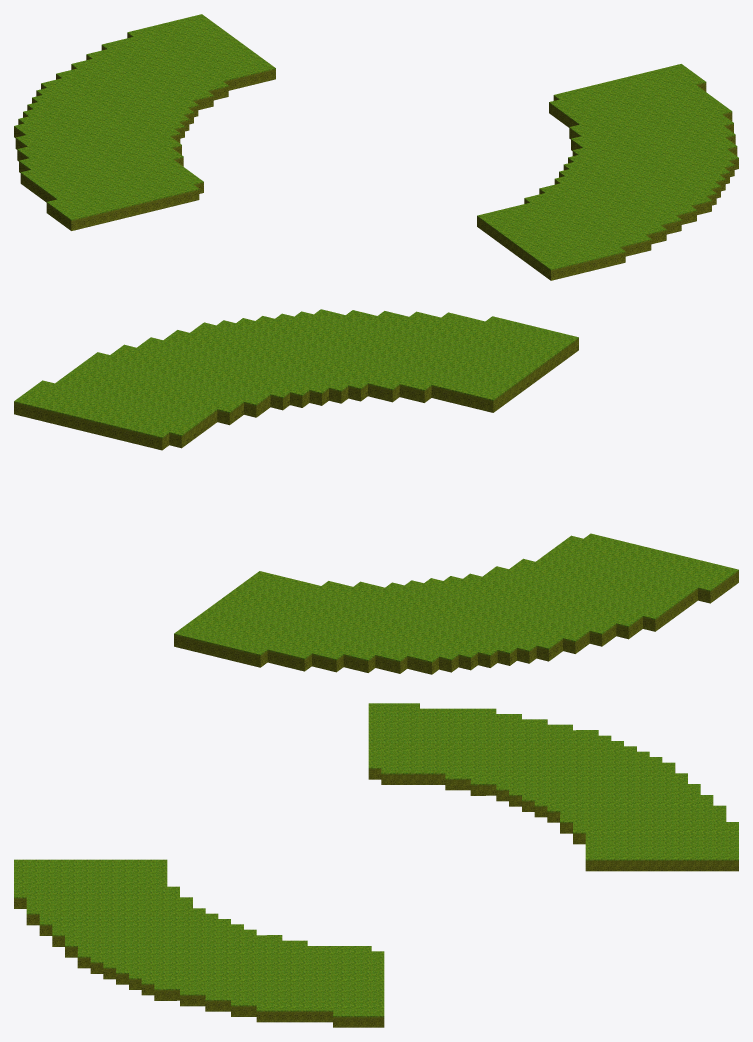
The model's file is stage11_cover.fbx.
3 views of the same model, one above another, from view 1: azimuth 30°, elevation 25°; view 2: azimuth 150°, elevation 25°; view 3: azimuth 270°, elevation 25° (orthographic). The views are drawn at different scales.
Visible parts, largest first — view 1: stage_2nd_1 (×2); view 2: stage_2nd_1 (×2); view 3: stage_2nd_1 (×2).
Boxes of the visible parts, box(x1,y1,x2,y2) form: stage_2nd_1 (×2): box(14, 14, 738, 280); stage_2nd_1 (×2): box(14, 309, 738, 674); stage_2nd_1 (×2): box(14, 703, 738, 1027).
Size of the model in its own units: 5743 by 100 by 5622.
